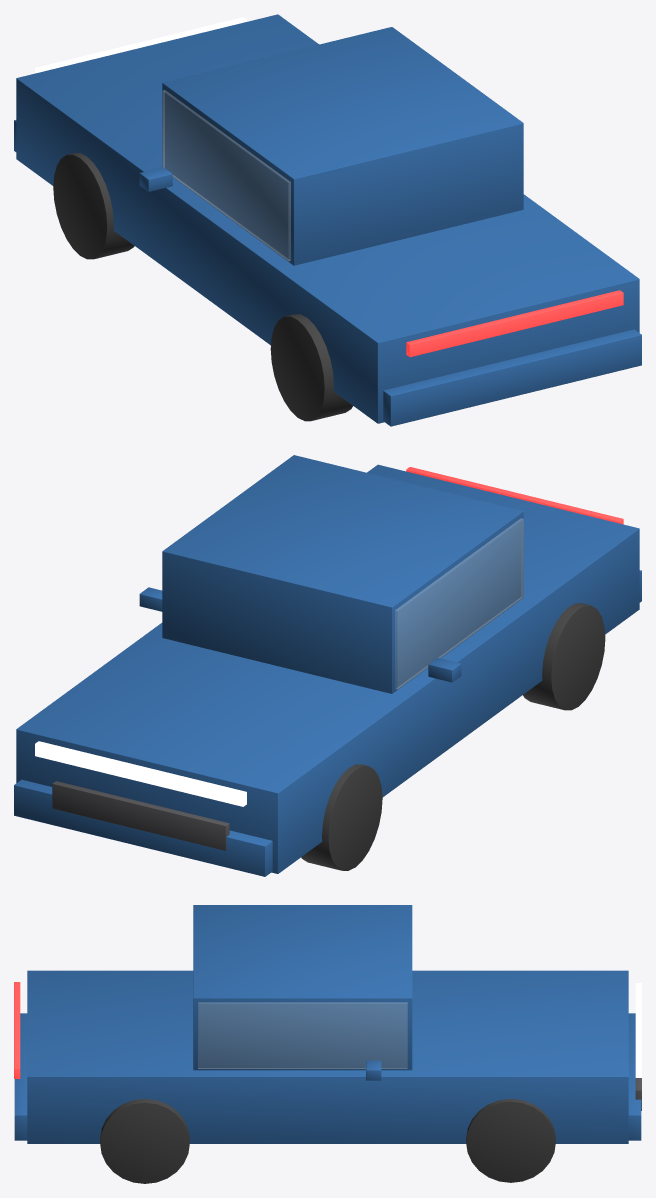
Rendered from vehicle.glb.
The picture shows the model from 3 angles, top to bottom: view 1: azimuth 30°, elevation 25°; view 2: azimuth 150°, elevation 25°; view 3: azimuth 270°, elevation 25°; orthographic projection. The views are drawn at different scales.
Parts seen in each view (by area): view 1: BODY_Main, BODY_Roof, GLASS_Greenhouse, BODY_Bumpers_Rear, WHEEL_RR_Tire, WHEEL_FR_Tire, LIGHT_Taillights, LIGHT_Headlights, BODY_Mirror_R; view 2: BODY_Main, BODY_Roof, GLASS_Greenhouse, BODY_Bumpers_Front, WHEEL_RR_Tire, WHEEL_FR_Tire, BODY_Grille, LIGHT_Headlights, LIGHT_Taillights, BODY_Mirror_R; view 3: BODY_Main, BODY_Roof, GLASS_Greenhouse, WHEEL_RL_Tire, WHEEL_FL_Tire, BODY_Bumpers_Rear, BODY_Bumpers_Front, LIGHT_Taillights, LIGHT_Headlights.
Boxes of the visible parts, left/top/right/bottom form: BODY_Main: left=16, top=14, right=639, bottom=423; BODY_Roof: left=162, top=27, right=523, bottom=265; GLASS_Greenhouse: left=162, top=90, right=290, bottom=261; BODY_Bumpers_Rear: left=383, top=329, right=641, bottom=426; WHEEL_RR_Tire: left=270, top=314, right=352, bottom=421; WHEEL_FR_Tire: left=53, top=153, right=134, bottom=259; LIGHT_Taillights: left=406, top=290, right=623, bottom=357; LIGHT_Headlights: left=35, top=17, right=246, bottom=73; BODY_Mirror_R: left=139, top=167, right=172, bottom=191; BODY_Main: left=16, top=464, right=639, bottom=873; BODY_Roof: left=162, top=455, right=523, bottom=693; GLASS_Greenhouse: left=395, top=518, right=523, bottom=689; BODY_Bumpers_Front: left=14, top=779, right=272, bottom=876; WHEEL_RR_Tire: left=523, top=603, right=605, bottom=710; WHEEL_FR_Tire: left=301, top=764, right=382, bottom=870; BODY_Grille: left=52, top=781, right=229, bottom=850; LIGHT_Headlights: left=35, top=741, right=246, bottom=806; LIGHT_Taillights: left=406, top=467, right=623, bottom=524; BODY_Mirror_R: left=428, top=658, right=461, bottom=682; BODY_Main: left=27, top=970, right=628, bottom=1143; BODY_Roof: left=193, top=905, right=412, bottom=1070; GLASS_Greenhouse: left=198, top=1002, right=407, bottom=1068; WHEEL_RL_Tire: left=100, top=1099, right=189, bottom=1183; WHEEL_FL_Tire: left=466, top=1099, right=555, bottom=1182; BODY_Bumpers_Rear: left=14, top=1013, right=27, bottom=1140; BODY_Bumpers_Front: left=628, top=1013, right=641, bottom=1140; LIGHT_Taillights: left=14, top=982, right=20, bottom=1078; LIGHT_Headlights: left=635, top=983, right=641, bottom=1077.
Bounding box in the file's own units: 2.34 × 1.51 × 4.89.
